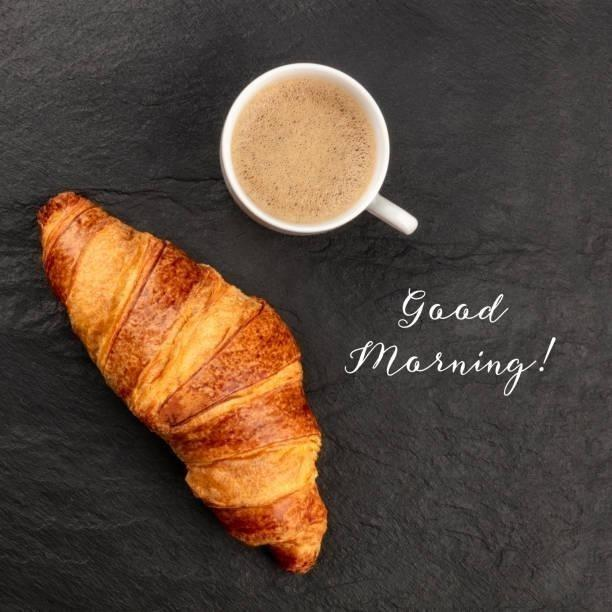cup-handle: (217, 61, 419, 243)
